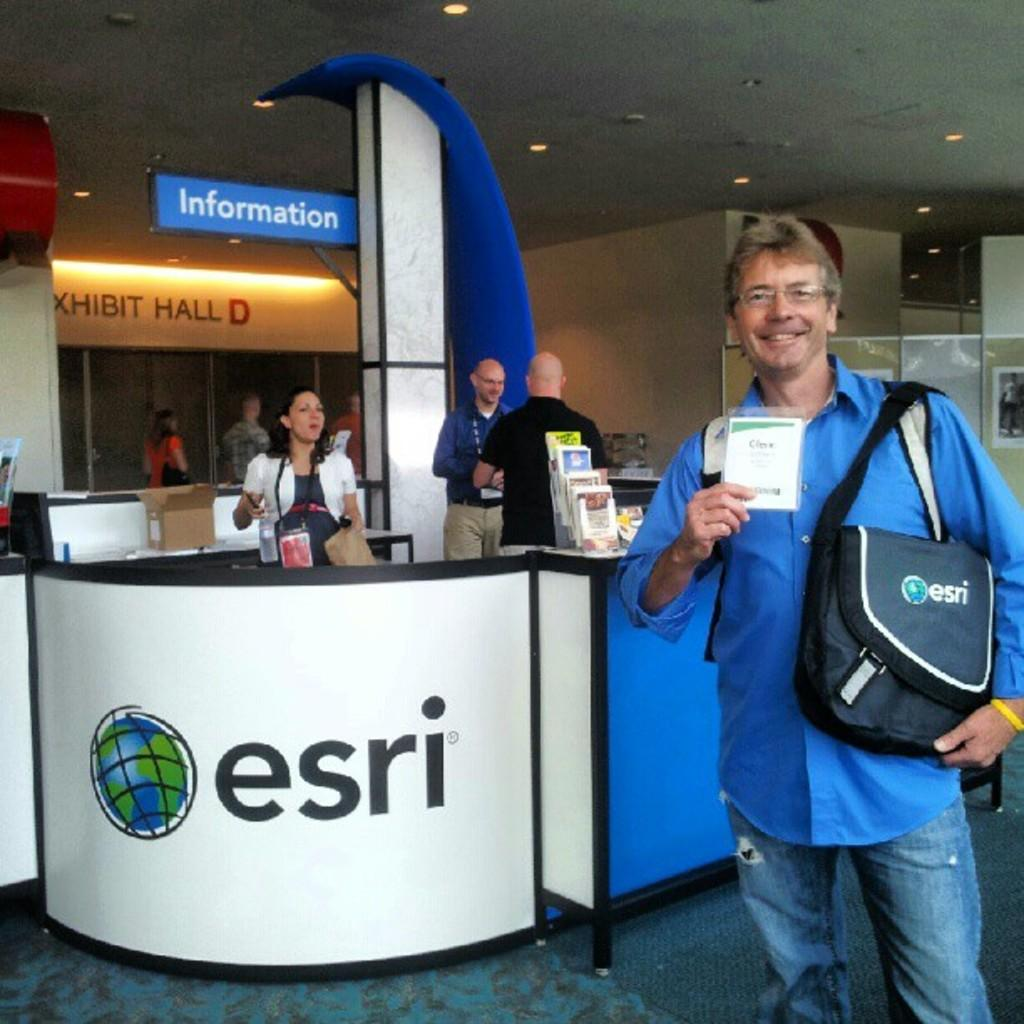Luggage-and-bags: (790, 355, 1014, 828), (159, 432, 192, 487)
